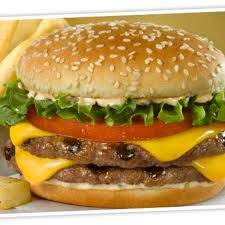hamburger: (14, 22, 224, 207)
